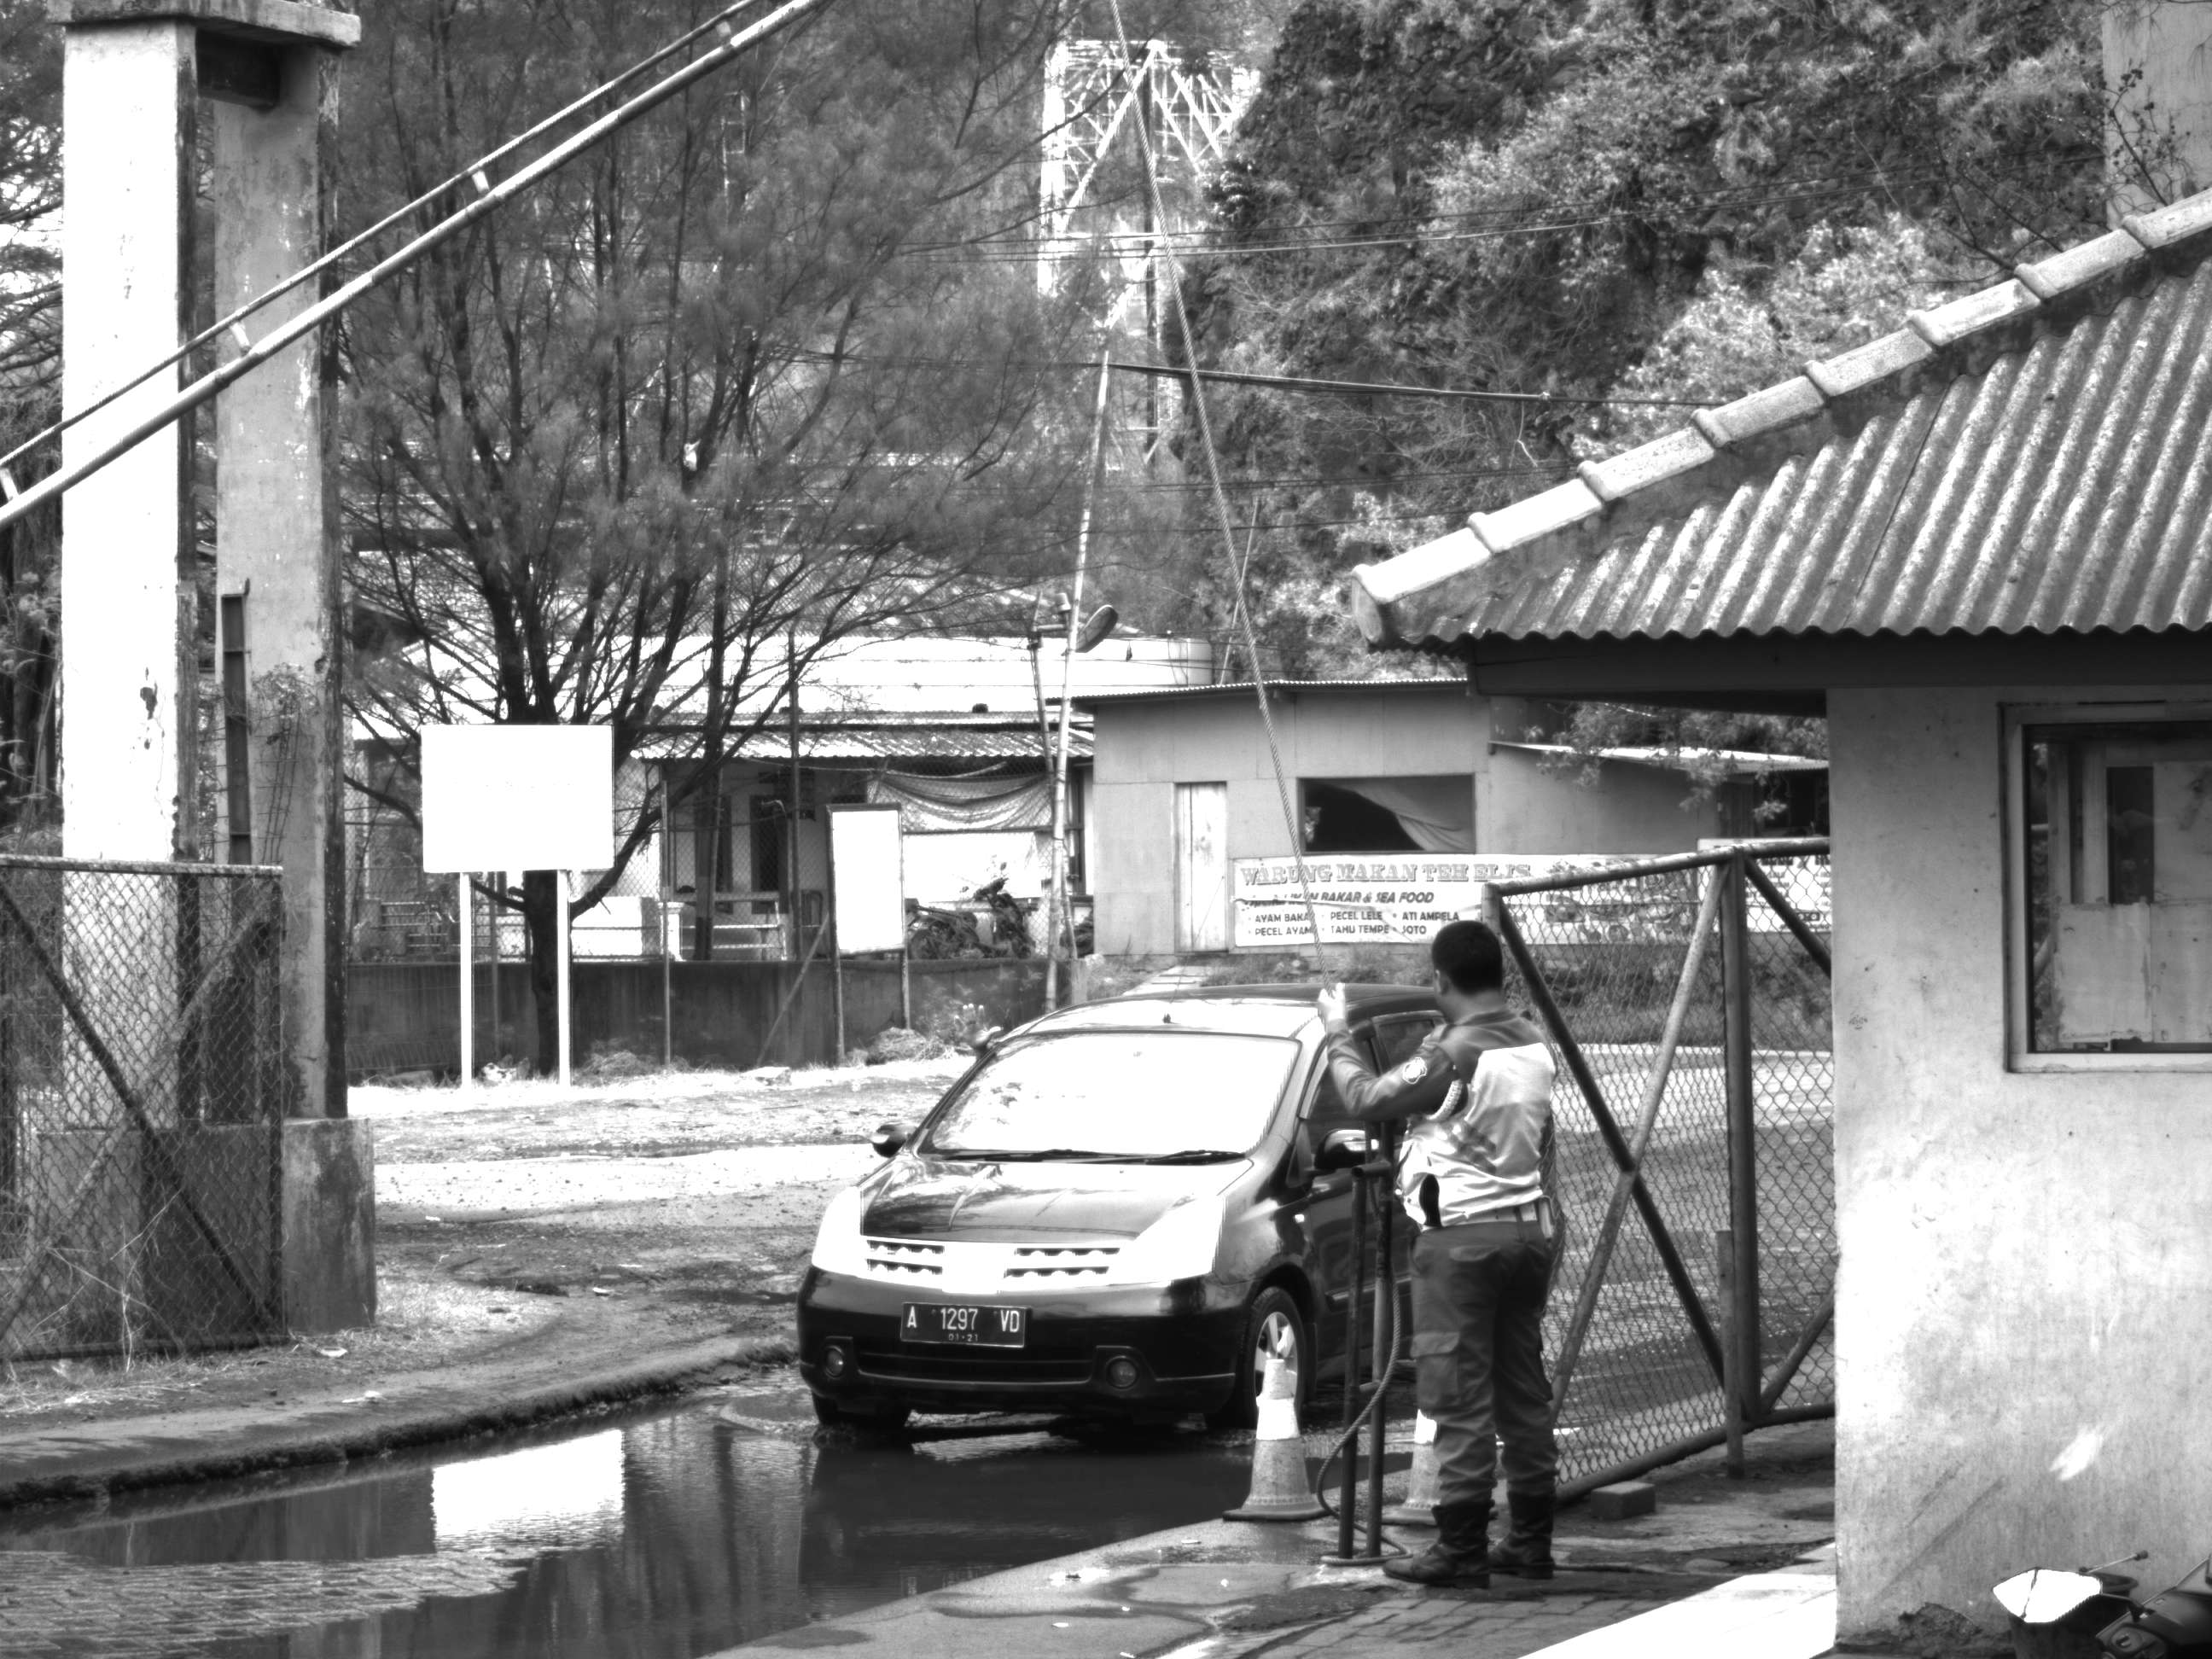day_small_front: (791, 990, 1334, 1436)
plate: (899, 1300, 1032, 1353)
